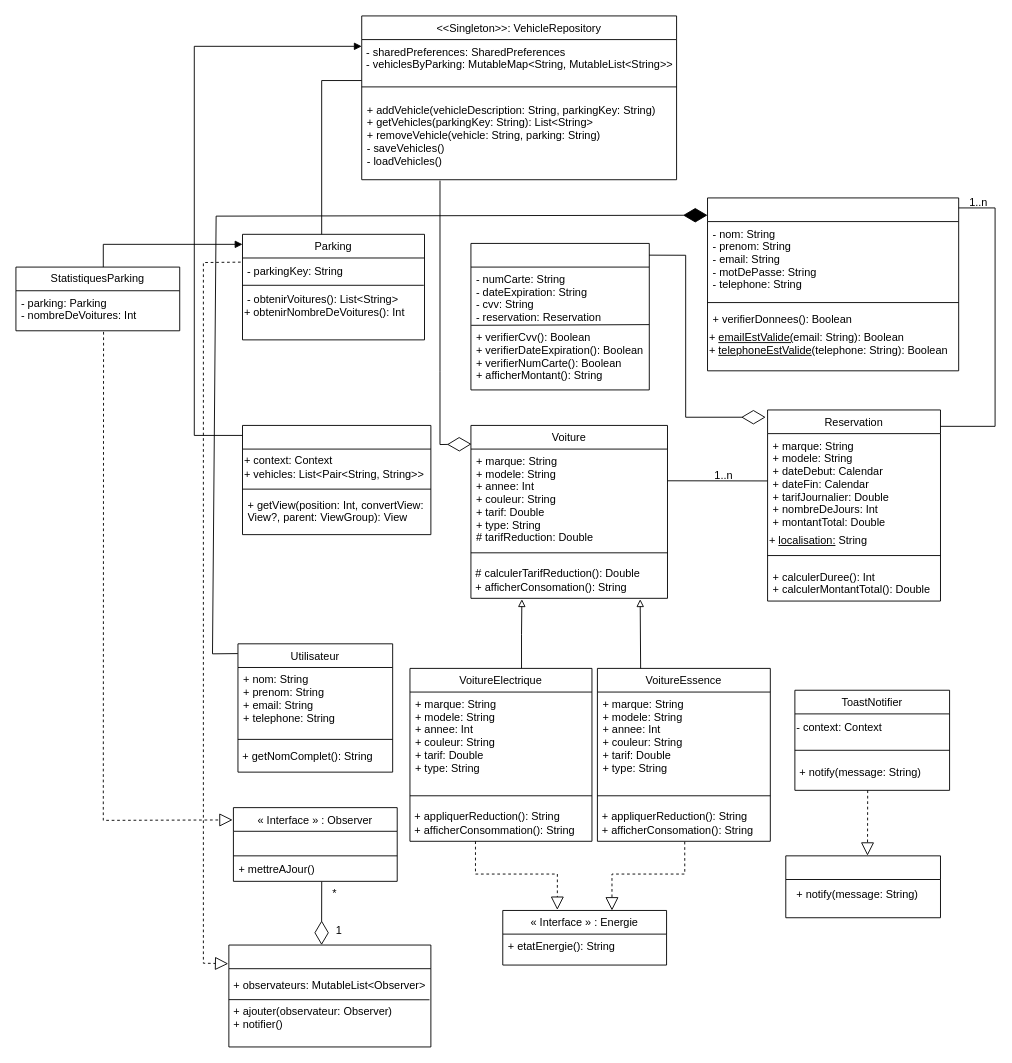
Some shapes in this 1012 by 1063 pixel diagram are drawn without their labels. Each missing label, with the box of its shape:
Identification: (707, 197, 959, 371)
Payment: (470, 243, 649, 390)
VehicleAdapter: (242, 425, 431, 535)
« Interface » : Notifier: (785, 855, 940, 918)
« Interface » : Observable: (228, 944, 431, 1047)
